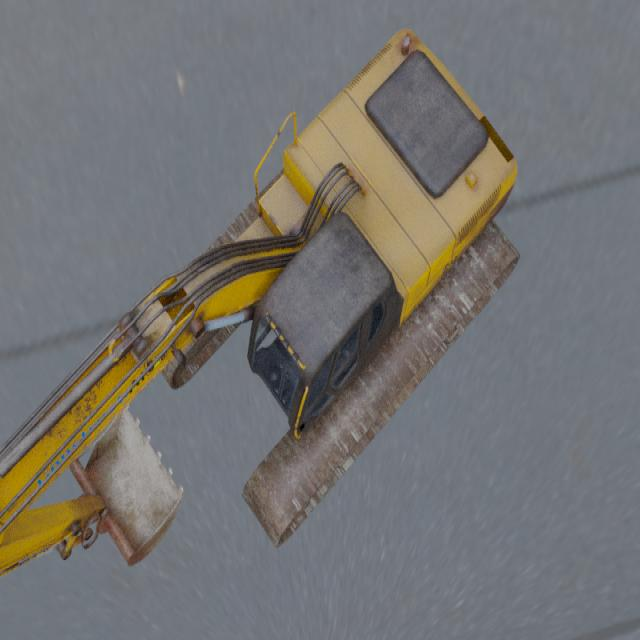excavator: (0, 28, 521, 577)
